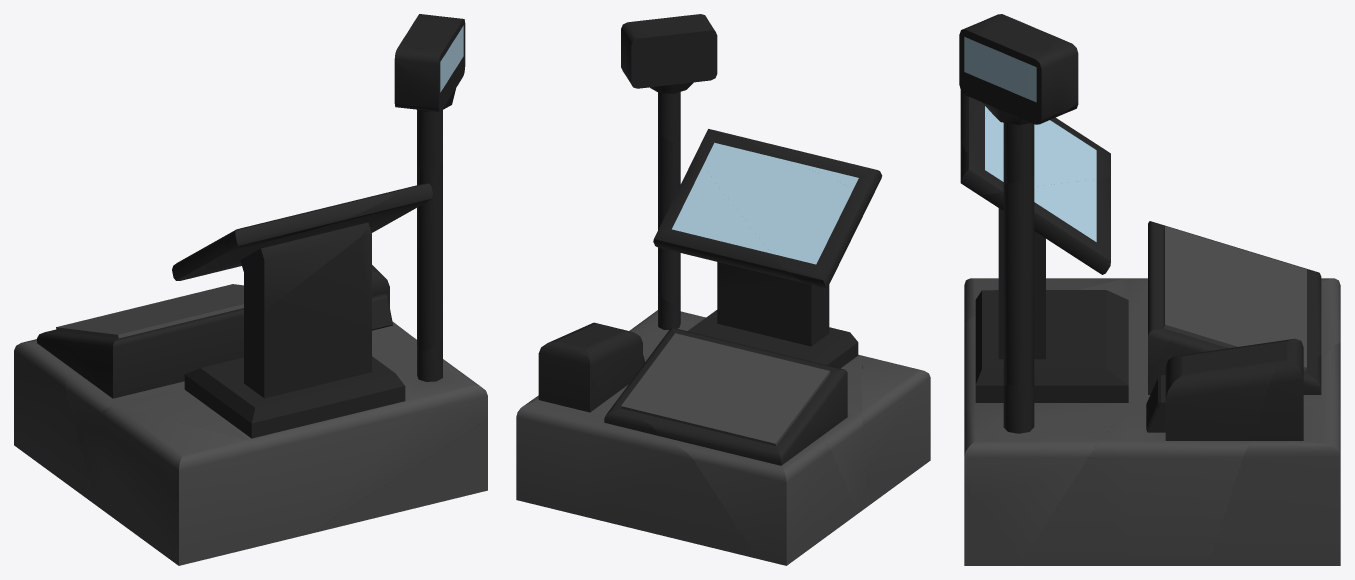
The model's file is CashRegister_Pieces.fbx.
3 views of the same model, side by side, from view 1: azimuth 30°, elevation 25°; view 2: azimuth 150°, elevation 25°; view 3: azimuth 270°, elevation 25° (orthographic). The views are drawn at different scales.
Visible parts, largest first — view 1: CashRegister_Pieces.004, CashRegister_Pieces, CashRegister_Pieces.001, CashRegister_Pieces.005, CashRegister_Pieces.006, CashRegister_Pieces.002, CashRegister_Pieces.010, CashRegister_Pieces.009, CashRegister_Pieces.008, CashRegister_Pieces.007; view 2: CashRegister_Pieces.001, CashRegister_Pieces.003, CashRegister_Pieces.004, CashRegister_Pieces.005, CashRegister_Pieces.006, CashRegister_Pieces, CashRegister_Pieces.009, CashRegister_Pieces.008, CashRegister_Pieces.010, CashRegister_Pieces.007; view 3: CashRegister_Pieces.001, CashRegister_Pieces.004, CashRegister_Pieces.003, CashRegister_Pieces.009, CashRegister_Pieces.006, CashRegister_Pieces.005, CashRegister_Pieces.010, CashRegister_Pieces.008, CashRegister_Pieces.002, CashRegister_Pieces, CashRegister_Pieces.007.
Part boxes in pixels (bbox=[...]): CashRegister_Pieces.004: bbox=[65, 299, 487, 548]; CashRegister_Pieces: bbox=[101, 407, 256, 565]; CashRegister_Pieces.001: bbox=[14, 265, 416, 504]; CashRegister_Pieces.005: bbox=[172, 183, 432, 311]; CashRegister_Pieces.006: bbox=[205, 206, 418, 343]; CashRegister_Pieces.002: bbox=[310, 419, 487, 533]; CashRegister_Pieces.010: bbox=[417, 160, 442, 351]; CashRegister_Pieces.009: bbox=[394, 14, 465, 90]; CashRegister_Pieces.008: bbox=[394, 63, 455, 170]; CashRegister_Pieces.007: bbox=[222, 190, 398, 250]; CashRegister_Pieces.001: bbox=[555, 322, 857, 565]; CashRegister_Pieces.003: bbox=[516, 340, 756, 558]; CashRegister_Pieces.004: bbox=[629, 283, 870, 513]; CashRegister_Pieces.005: bbox=[695, 129, 873, 288]; CashRegister_Pieces.006: bbox=[653, 155, 806, 291]; CashRegister_Pieces: bbox=[862, 355, 930, 503]; CashRegister_Pieces.009: bbox=[621, 14, 717, 80]; CashRegister_Pieces.008: bbox=[629, 39, 717, 142]; CashRegister_Pieces.010: bbox=[658, 133, 680, 303]; CashRegister_Pieces.007: bbox=[735, 135, 882, 194]; CashRegister_Pieces.001: bbox=[1019, 250, 1340, 565]; CashRegister_Pieces.004: bbox=[964, 221, 1244, 565]; CashRegister_Pieces.003: bbox=[1208, 340, 1340, 565]; CashRegister_Pieces.009: bbox=[959, 14, 1078, 124]; CashRegister_Pieces.006: bbox=[981, 177, 1110, 325]; CashRegister_Pieces.005: bbox=[960, 110, 1110, 196]; CashRegister_Pieces.010: bbox=[1003, 176, 1034, 386]; CashRegister_Pieces.008: bbox=[959, 65, 1078, 183]; CashRegister_Pieces.002: bbox=[964, 485, 1010, 565]; CashRegister_Pieces: bbox=[964, 278, 1128, 327]; CashRegister_Pieces.007: bbox=[960, 90, 988, 152].
Bounding box in the file's own units: 71.65 × 95.56 × 64.69.
